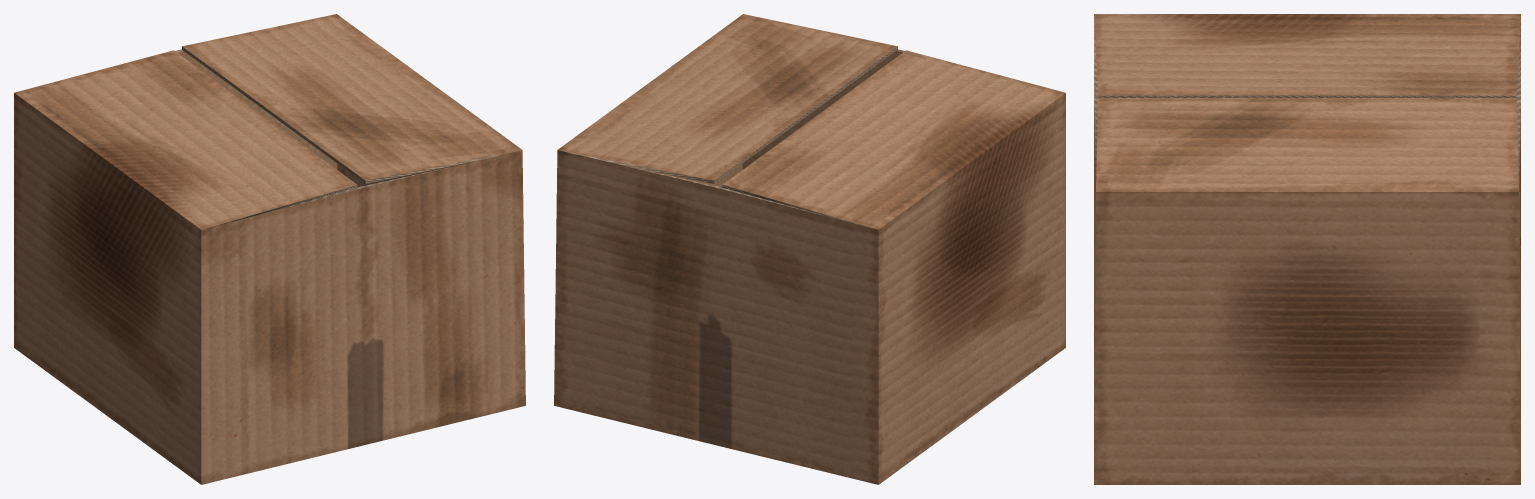
File: SM_Paperbox.fbx
3 renders of one model, left to right at view 1: azimuth 30°, elevation 25°; view 2: azimuth 150°, elevation 25°; view 3: azimuth 270°, elevation 25°, orthographic. The views are drawn at different scales.
Visible parts, largest first — view 1: pCube1; view 2: pCube1; view 3: pCube1.
Boxes of the visible parts, x1,y1,x2,y2 form: pCube1: (14,14,525,484); pCube1: (554,14,1065,484); pCube1: (1094,14,1520,484).
Size of the model in its own units: 102 by 78.77 by 102.
1 material, 1 textured.
